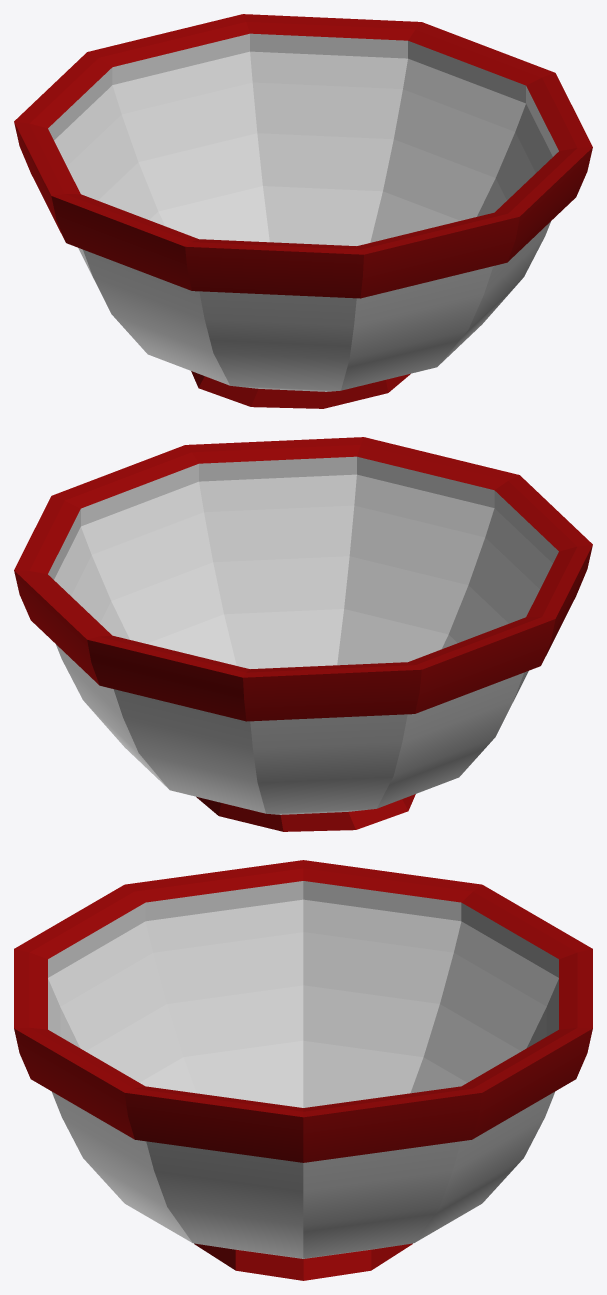
The model's file is Nutcracker_Bowl.fbx.
The picture shows the model from 3 angles, top to bottom: view 1: azimuth 30°, elevation 25°; view 2: azimuth 150°, elevation 25°; view 3: azimuth 270°, elevation 25°; orthographic projection. The views are drawn at different scales.
Visible parts, largest first — view 1: Bowl; view 2: Bowl; view 3: Bowl.
Part boxes in pixels (x1,y1,x2,y2): Bowl: (14, 14, 592, 408); Bowl: (14, 437, 592, 831); Bowl: (14, 860, 592, 1280).
Size of the model in its own units: 40.61 by 17.57 by 38.63.
